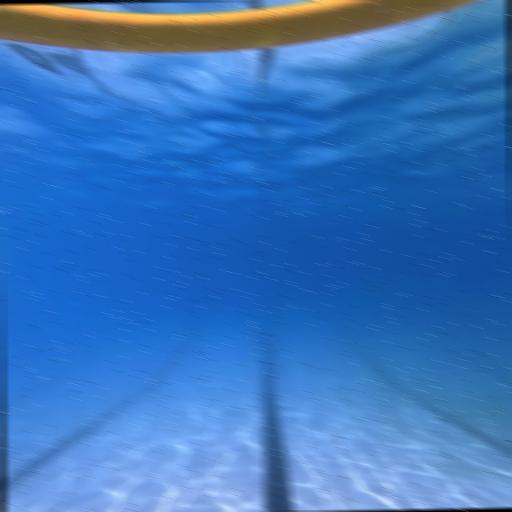upper_gate: (0, 0, 509, 55)
